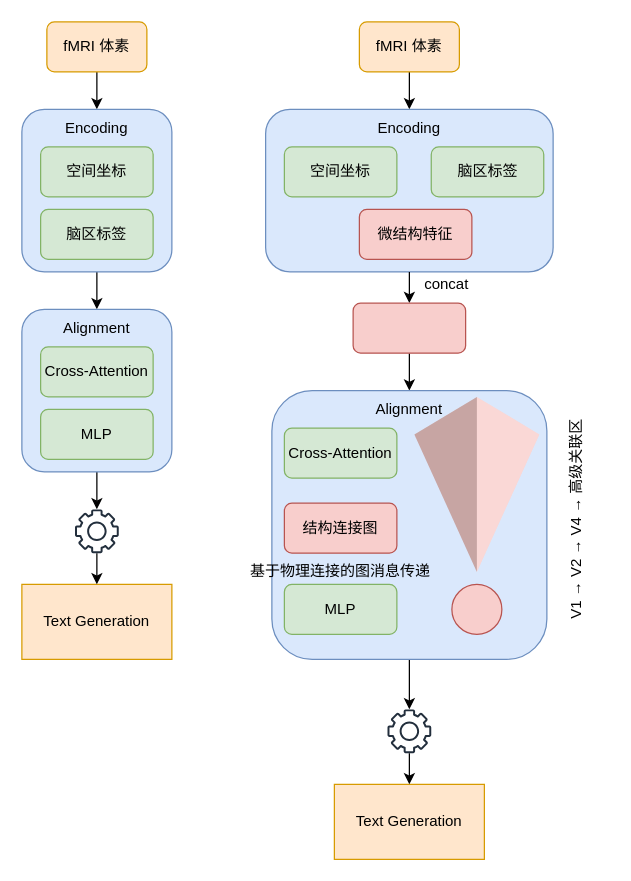
Image size: 631x881. Some labels were removed from this diagram. Here are the shapes that lost their labels. From the top down, the centre of each, then its label:
point 409,327: Enhanced Keys
point 476,608: Gated
